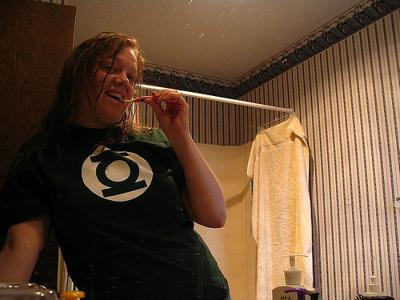person: (1, 30, 233, 300)
